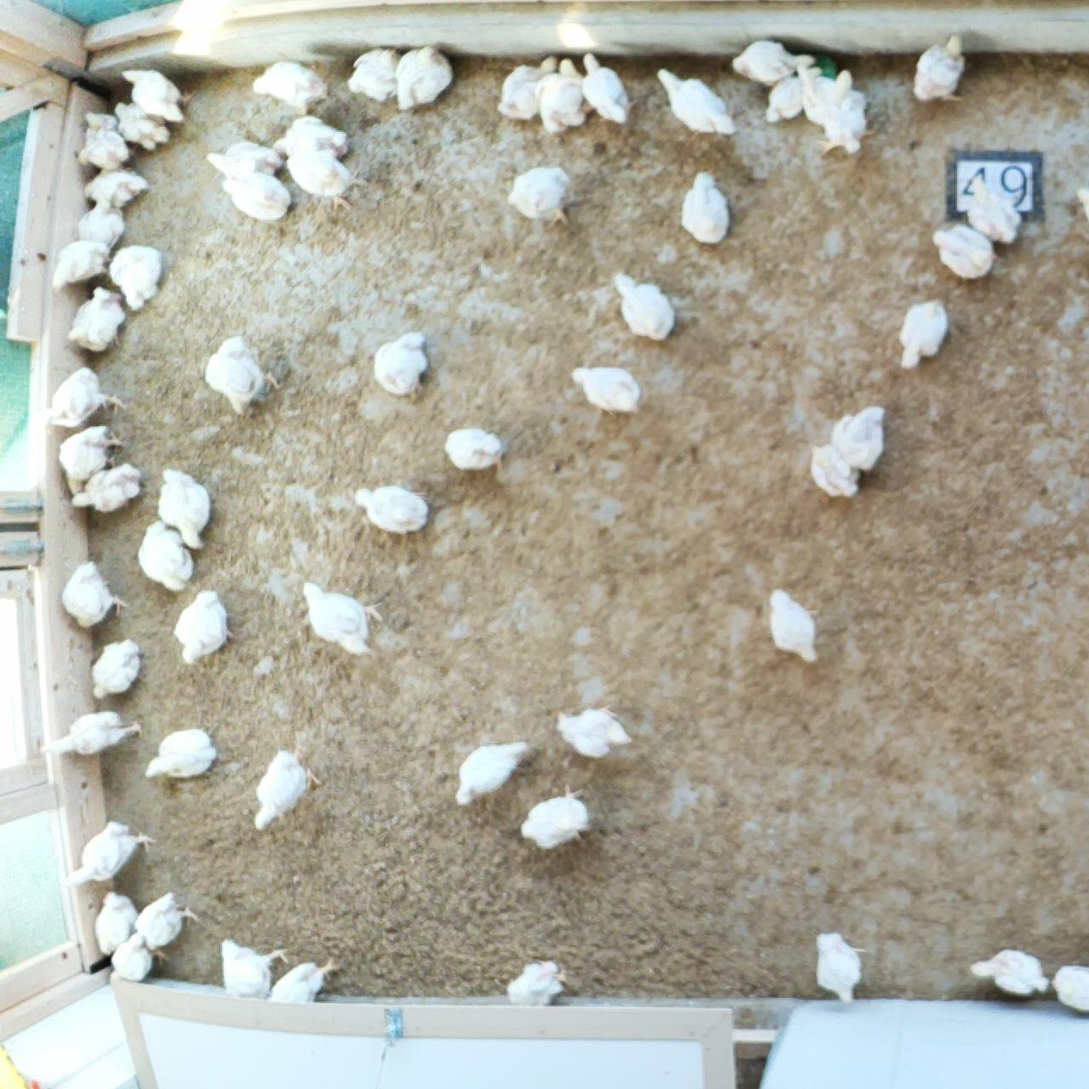chicken: (296, 569, 390, 669), (55, 816, 157, 895), (248, 735, 326, 835), (443, 732, 539, 812), (652, 59, 741, 143), (203, 329, 281, 422), (514, 778, 600, 858), (38, 361, 131, 432), (281, 146, 367, 221), (760, 578, 828, 671), (34, 707, 147, 762), (959, 938, 1054, 1001), (813, 65, 875, 158), (155, 461, 215, 556), (610, 268, 682, 347), (244, 54, 335, 116), (173, 584, 241, 666), (579, 46, 643, 133), (891, 287, 954, 374), (505, 158, 580, 231), (57, 555, 130, 630), (549, 696, 639, 756), (57, 422, 127, 498), (214, 932, 293, 999), (907, 31, 973, 111), (676, 165, 735, 254), (494, 51, 562, 128), (120, 62, 197, 130), (535, 54, 597, 138), (566, 358, 649, 419), (370, 327, 436, 403), (351, 478, 433, 539), (929, 215, 998, 287), (142, 723, 224, 783), (809, 925, 868, 1008), (134, 885, 202, 957), (965, 171, 1025, 252), (394, 40, 460, 113), (727, 34, 819, 86), (271, 110, 354, 167), (134, 515, 195, 592), (64, 284, 130, 355), (66, 460, 145, 516), (108, 240, 169, 312), (217, 170, 295, 226), (831, 400, 890, 474), (757, 59, 822, 126), (805, 435, 865, 504), (344, 40, 406, 106), (269, 952, 346, 1005), (502, 953, 569, 1011), (205, 138, 289, 183), (91, 635, 144, 706), (110, 97, 176, 153), (48, 235, 114, 291), (442, 423, 508, 479), (89, 889, 141, 956), (106, 929, 157, 985), (80, 167, 150, 207), (73, 197, 127, 248), (1047, 954, 1089, 1018), (75, 111, 117, 167), (88, 127, 134, 172), (796, 62, 831, 117)
